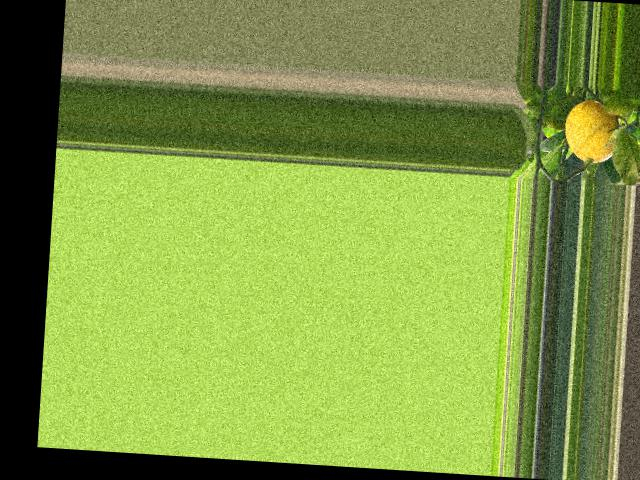lemon: (561, 96, 620, 168)
